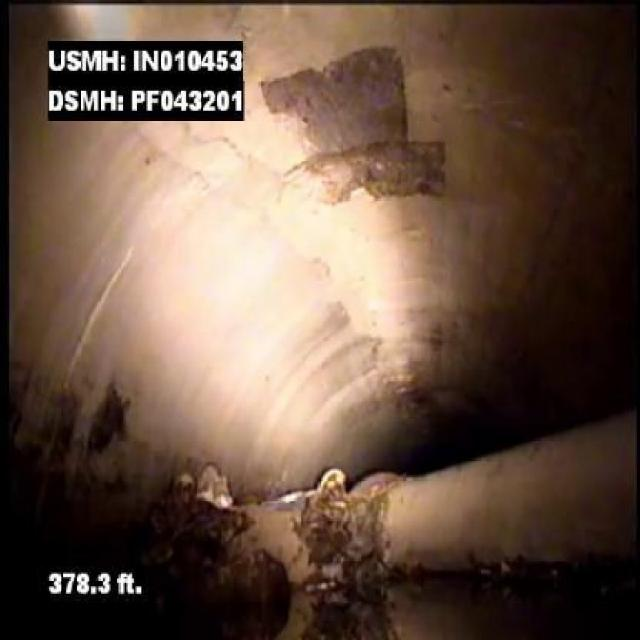Utility intrusion: (142, 408, 638, 610)
